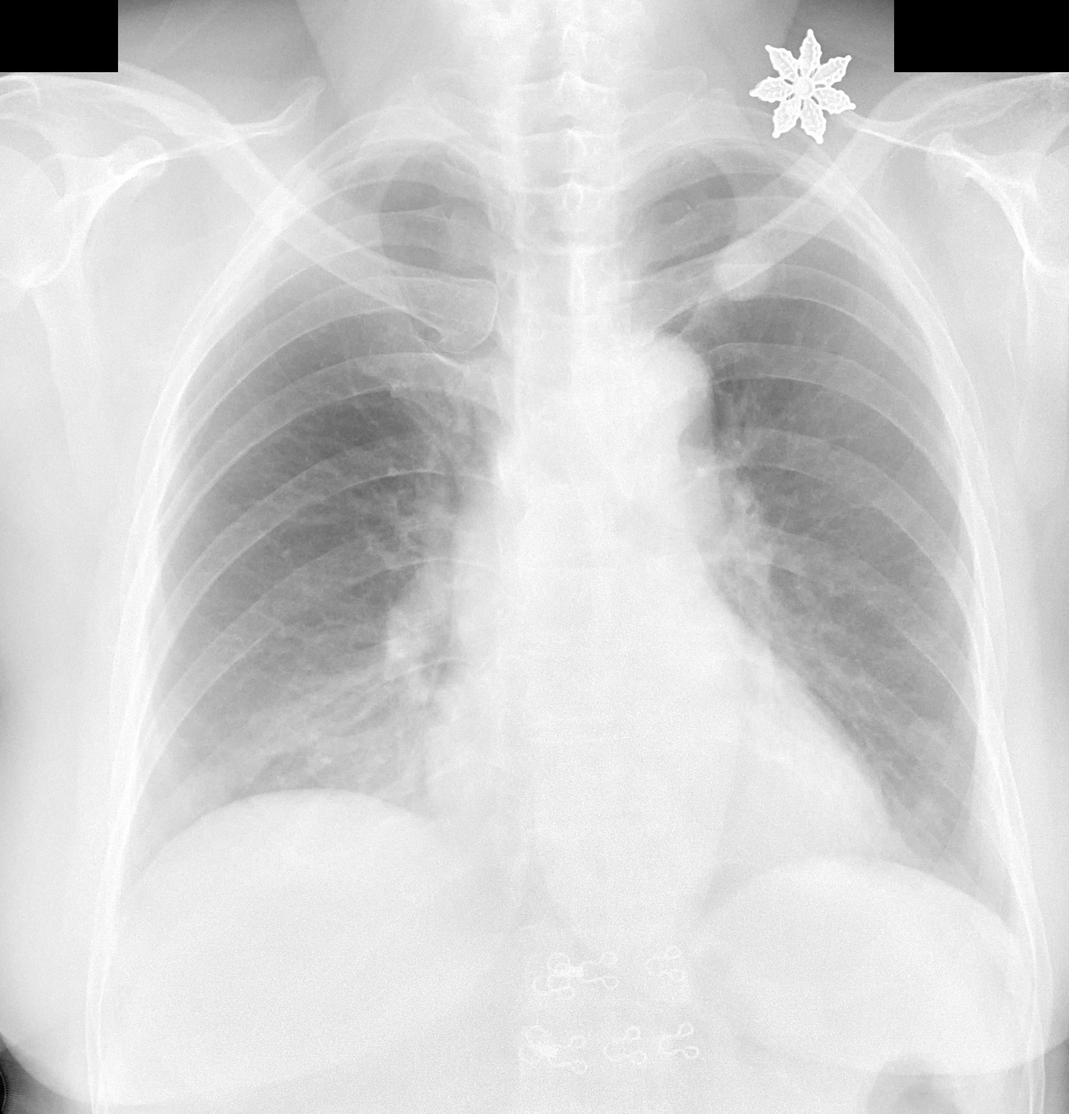Aortic enlargement: (565, 327, 713, 464)
Cardiomegaly: (421, 731, 902, 889)
Pleural thickening: (637, 125, 735, 179), (324, 132, 462, 165)
